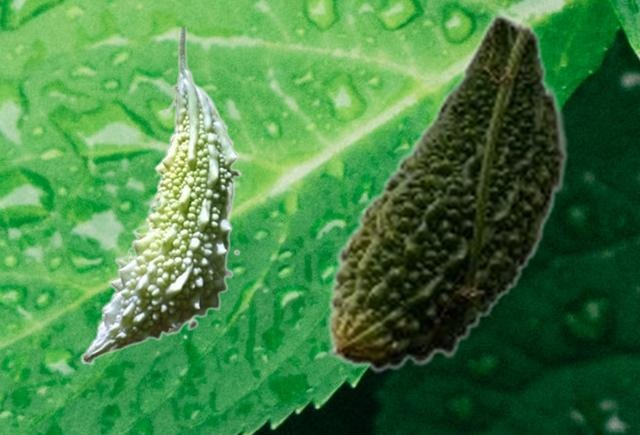ampalaya: (326, 13, 568, 372), (80, 27, 241, 364)
